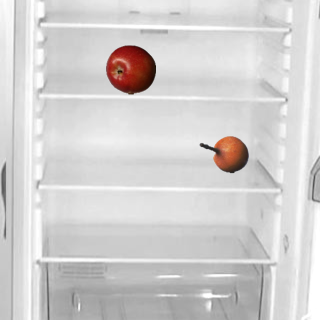Apple Braeburn: (105, 44, 155, 94)
Granadilla: (198, 129, 248, 179)
